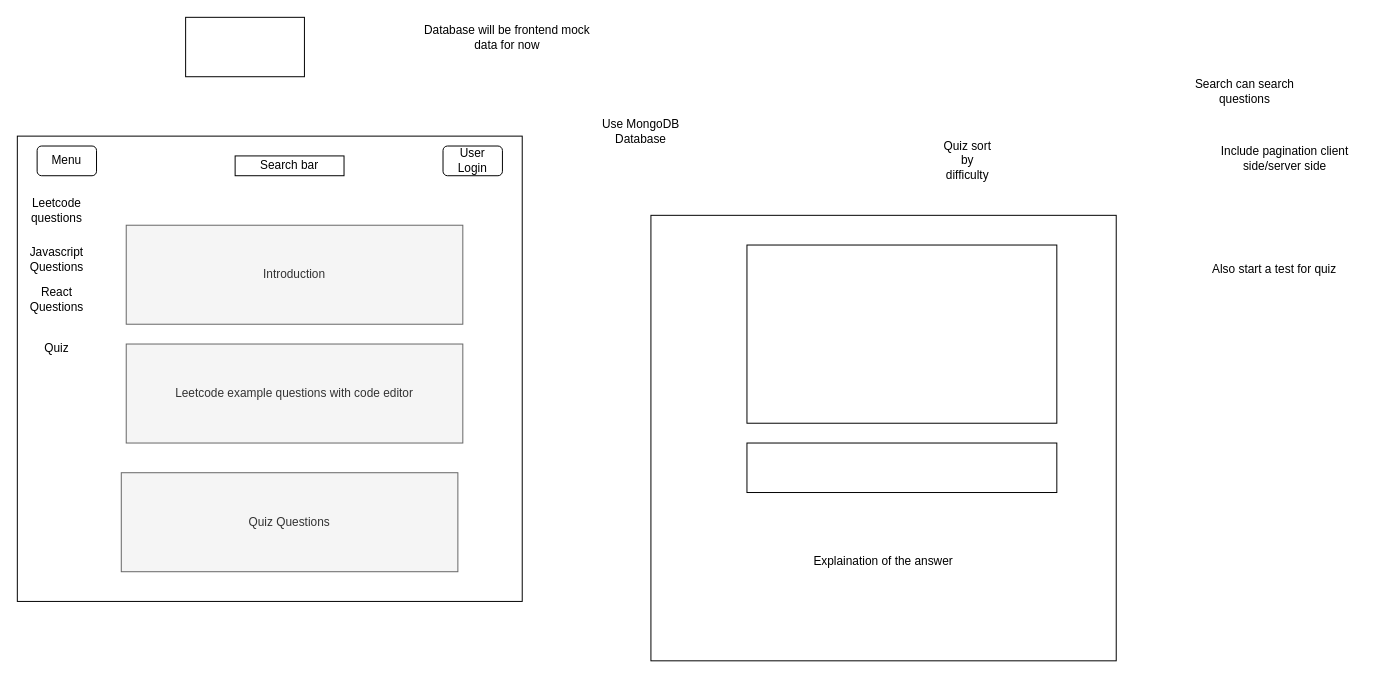
Image size: 1381x678. Some labels were removed from this diagram. The centre of each missing label's shape, as x and y in pixels:
Include debounce: (x=244, y=46)
Options: (x=901, y=467)
Quiz question: (x=901, y=333)
